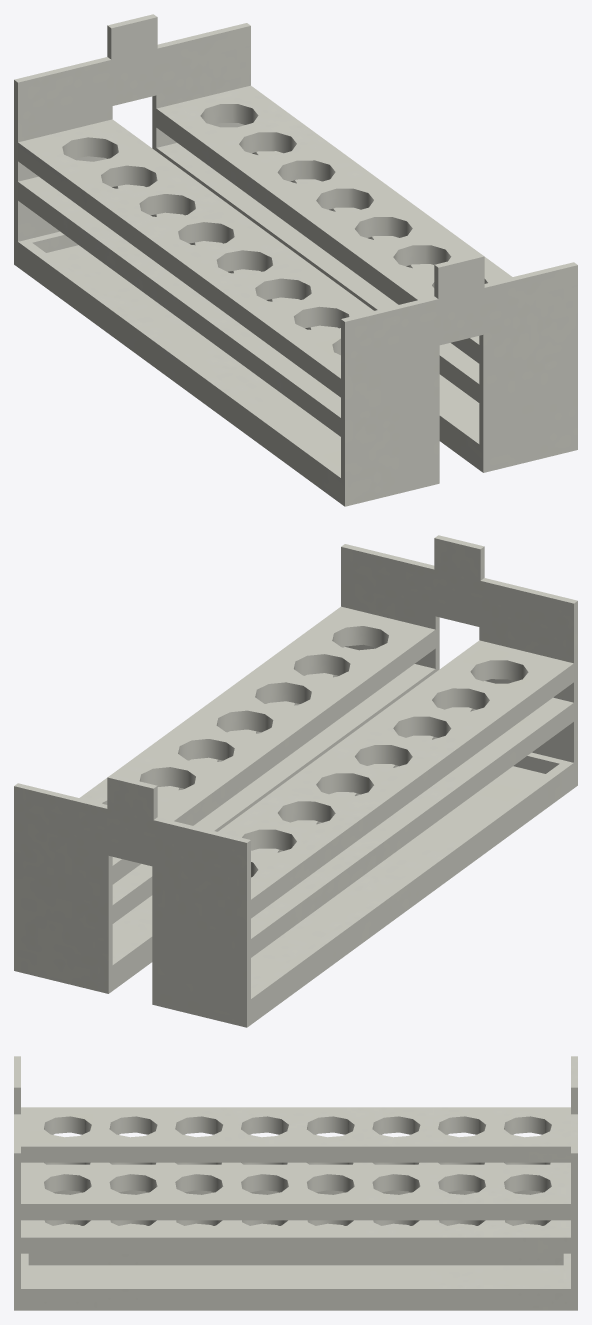
File: SM_消解罐架子.fbx
3 renders of one model, top to bottom at view 1: azimuth 30°, elevation 25°; view 2: azimuth 150°, elevation 25°; view 3: azimuth 270°, elevation 25°, orthographic. The views are drawn at different scales.
Parts seen in each view (by area): view 1: SM_消解罐架子; view 2: SM_消解罐架子; view 3: SM_消解罐架子.
Boxes of the visible parts, <box> form: SM_消解罐架子: <box>14,14,577,506</box>; SM_消解罐架子: <box>14,535,577,1027</box>; SM_消解罐架子: <box>14,1056,577,1310</box>.
Size of the model in its own units: 0.0981 by 0.087 by 0.2413.
